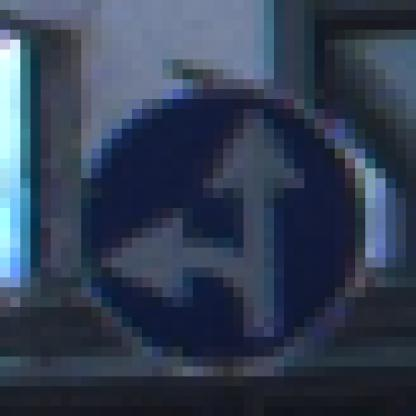Straight or Left: (52, 61, 366, 358)
